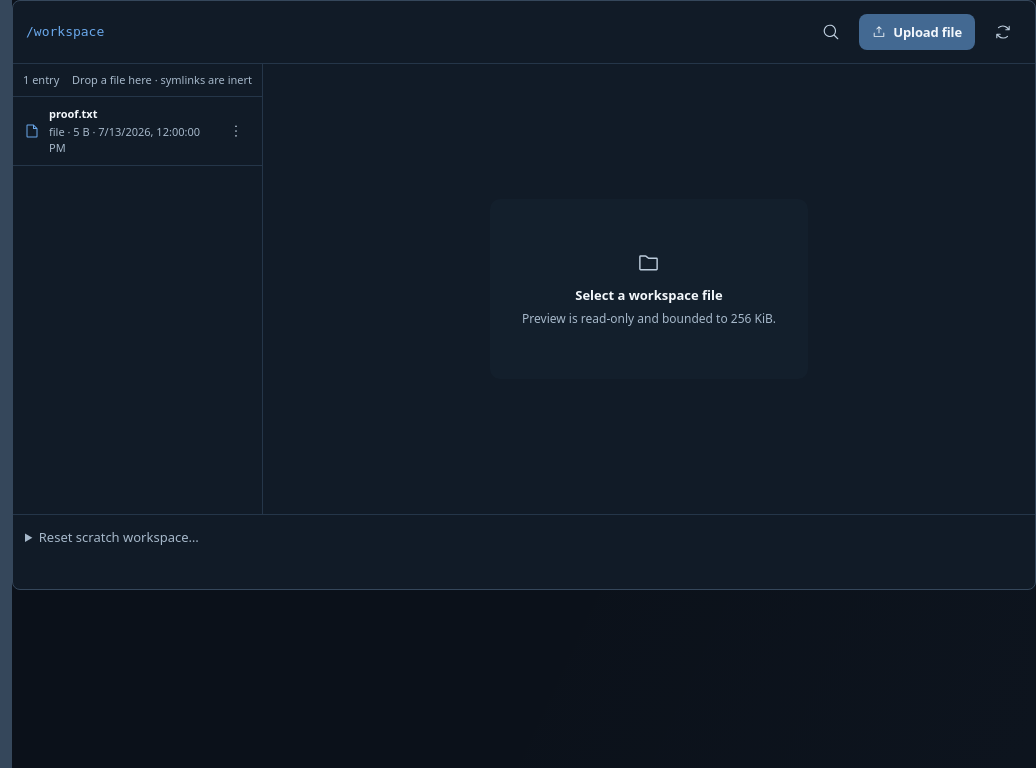
WorkspacePanel uploads › opens file actions from a per-row Actions button without a right-click
Click the button named "Actions for proof.txt" at (236, 131), box [214, 109, 258, 153]
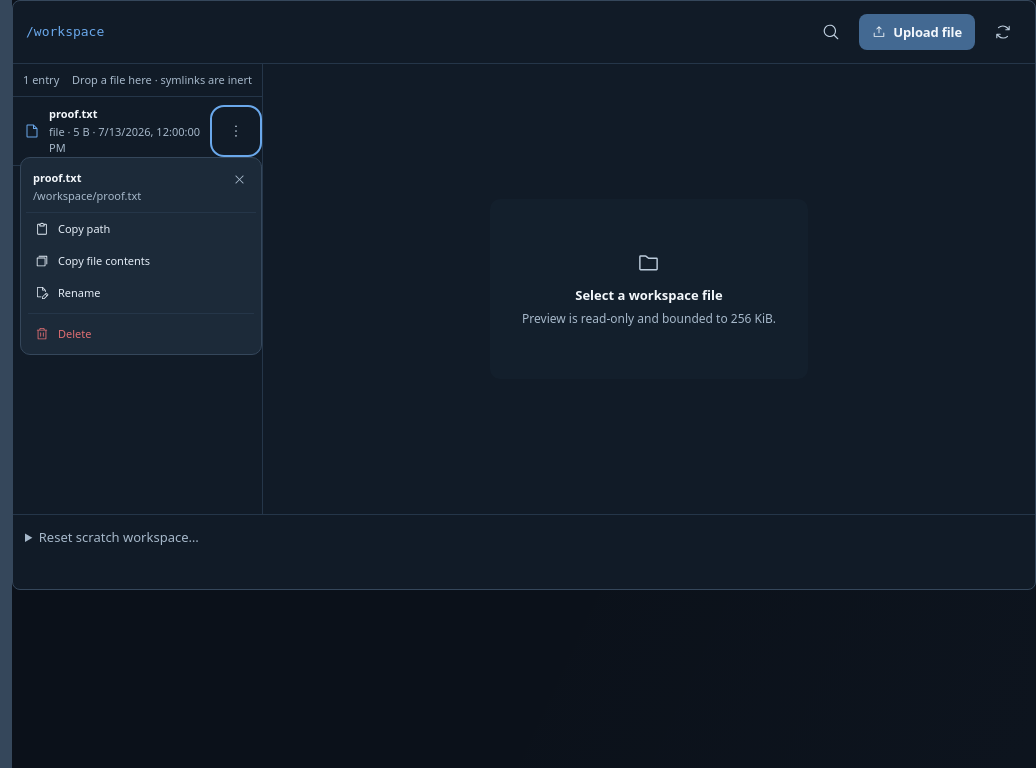
Expected: the menu item "Rename" is enabled, [26, 277, 256, 308]
Expected: the menu item "Delete" is enabled, [26, 318, 256, 349]
Click the button named "Close file actions" at (240, 179), box [230, 170, 249, 189]
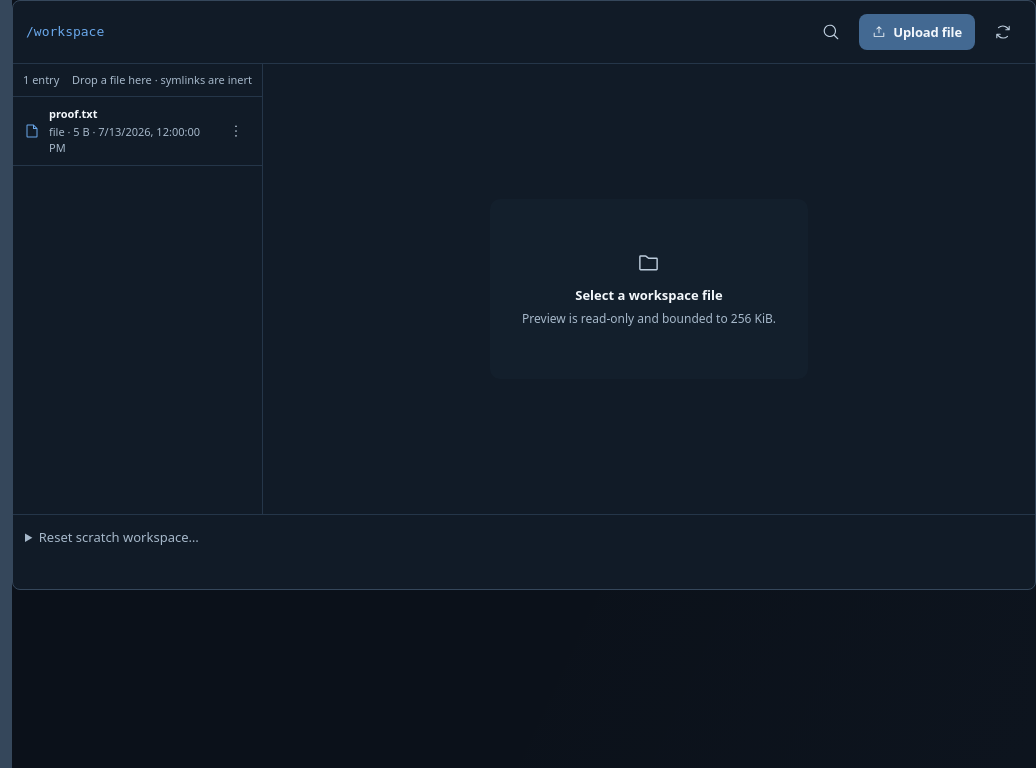
Expected: the menu is gone
